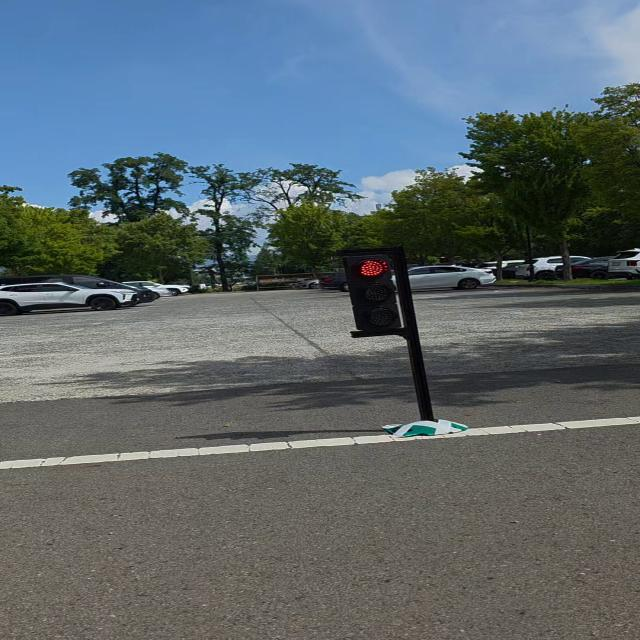red: (336, 253, 418, 334)
